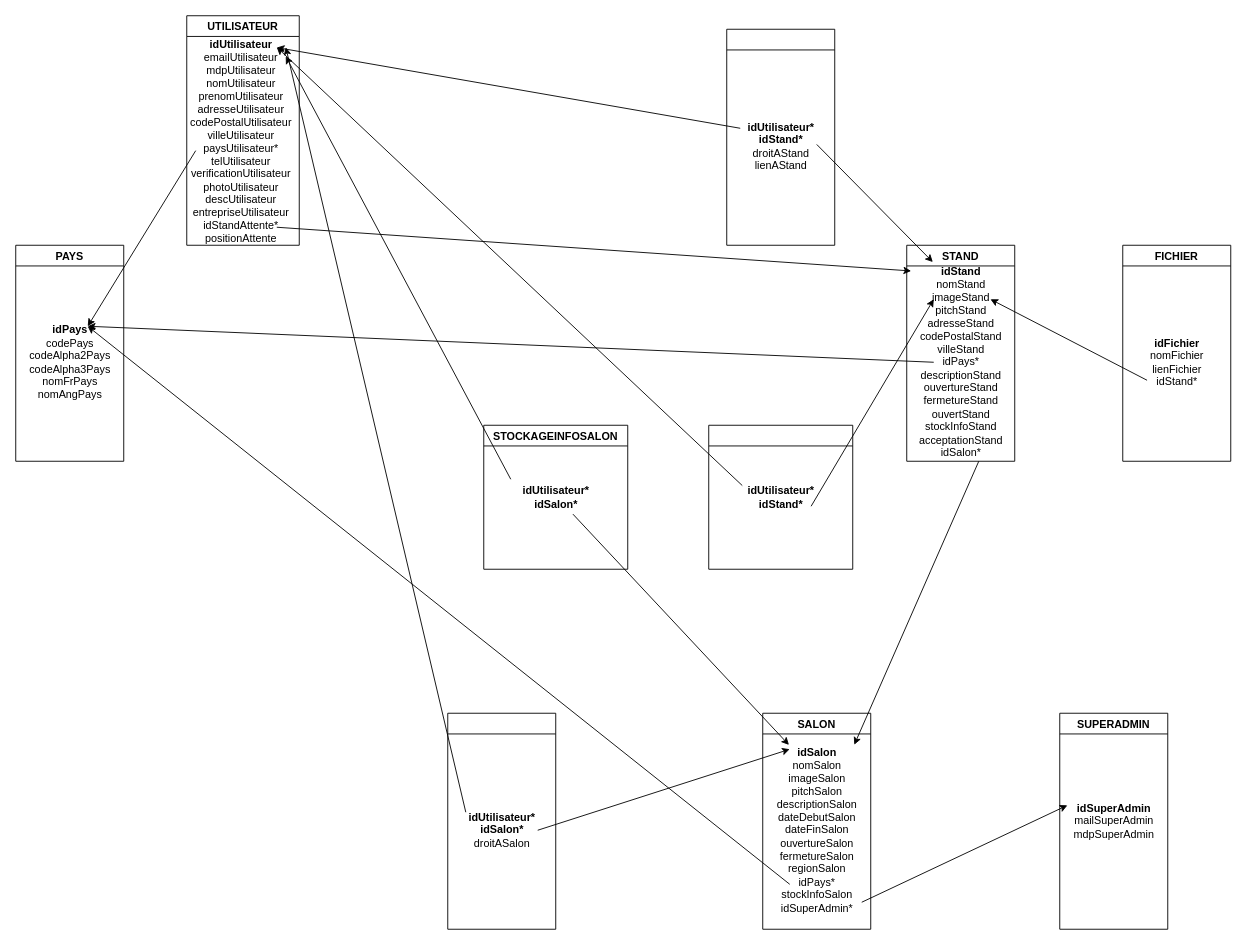
Image size: 1247x945. Some labels were removed from this diagram. The shapes that lost their labels are listed below. From the top down, each one's box as (x1, y1, x2, y2) in pixels, then its label:
(726, 28, 835, 245): ADMINSTAND
(708, 424, 853, 569): STOCKAGEINFOSTAND
(447, 712, 556, 929): ADMINSALON
